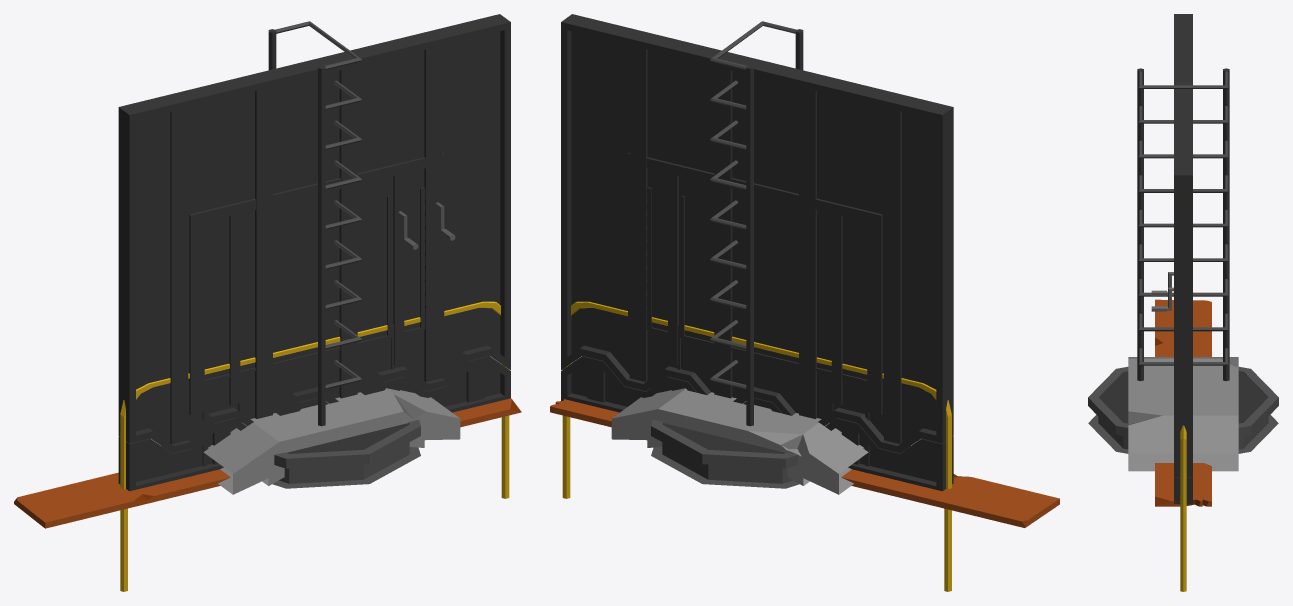
The model's file is Sewers_Props.fbx.
3 renders of one model, left to right at view 1: azimuth 30°, elevation 25°; view 2: azimuth 150°, elevation 25°; view 3: azimuth 270°, elevation 25°, orthographic. The views are drawn at different scales.
Visible parts, largest first — view 1: SM_Sewers_Props_Valve_Movable_01, SM_Sewers_Props_Valve_01, SM_Sewer_Tunnel_Bridge02_03, SM_Sewers_Props_Plank_02, SM_Sewers_Props_Ladder_2M, SM_Sewers_Props_Valve_03, SM_Sewers_Props_Valve_02, SM_Sewers_Props_Manhole_02, SM_Sewer_Tunnel_Bridge02_02, SM_Sewers_Props_Barrier, SM_Sewers_Props_Valve_Movable_03, SM_Sewers_Props_Valve_Movable_02 (+2 smaller); view 2: SM_Sewers_Props_Valve_Movable_01, SM_Sewers_Props_Valve_01, SM_Sewer_Tunnel_Bridge02_03, SM_Sewers_Props_Plank_02, SM_Sewers_Props_Ladder_2M, SM_Sewers_Props_Valve_02, SM_Sewers_Props_Valve_03, SM_Sewers_Props_Manhole_02, SM_Sewer_Tunnel_Bridge02_02, SM_Sewers_Props_Barrier, SM_Sewers_Props_Ladder_1M, SM_Sewers_Props_Valve_Movable_03 (+3 smaller); view 3: SM_Sewers_Props_Valve_Movable_01, SM_Sewer_Tunnel_Bridge02_03, SM_Sewers_Props_Ladder_2M, SM_Sewers_Props_Plank_02, SM_Sewers_Props_Manhole_02, SM_Sewer_Tunnel_Bridge02_02, SM_Sewers_Props_Manhole_Movable_02, SM_Sewers_Props_Barrier, SM_Sewers_Props_Manhole_Movable_01, SM_Sewers_Props_Plank_01, SM_Sewers_Props_Ladder_1M, SM_Sewers_Props_Valve_01.
Part boxes in pixels (x1,y1,x2,y2): SM_Sewers_Props_Valve_Movable_01: (118, 14, 510, 453); SM_Sewers_Props_Valve_01: (118, 356, 510, 491); SM_Sewer_Tunnel_Bridge02_03: (203, 388, 460, 494); SM_Sewers_Props_Plank_02: (14, 398, 521, 528); SM_Sewers_Props_Ladder_2M: (268, 21, 361, 426); SM_Sewers_Props_Valve_03: (189, 152, 444, 466); SM_Sewers_Props_Valve_02: (229, 172, 404, 405); SM_Sewers_Props_Manhole_02: (272, 392, 420, 488); SM_Sewer_Tunnel_Bridge02_02: (262, 392, 424, 485); SM_Sewers_Props_Barrier: (120, 301, 509, 591); SM_Sewers_Props_Valve_Movable_03: (202, 187, 425, 452); SM_Sewers_Props_Valve_Movable_02: (238, 195, 394, 422); SM_Sewers_Props_Valve_Movable_01: (561, 14, 953, 452); SM_Sewers_Props_Valve_01: (561, 356, 953, 491); SM_Sewer_Tunnel_Bridge02_03: (611, 388, 868, 494); SM_Sewers_Props_Plank_02: (550, 399, 1059, 527); SM_Sewers_Props_Ladder_2M: (710, 21, 803, 425); SM_Sewers_Props_Valve_02: (668, 163, 842, 405); SM_Sewers_Props_Valve_03: (628, 153, 882, 466); SM_Sewers_Props_Manhole_02: (651, 392, 799, 488); SM_Sewer_Tunnel_Bridge02_02: (647, 392, 809, 485); SM_Sewers_Props_Barrier: (562, 301, 951, 591); SM_Sewers_Props_Ladder_1M: (710, 241, 753, 426); SM_Sewers_Props_Valve_Movable_03: (646, 187, 869, 452); SM_Sewers_Props_Valve_Movable_01: (1174, 14, 1192, 477); SM_Sewer_Tunnel_Bridge02_03: (1128, 357, 1238, 471); SM_Sewers_Props_Ladder_2M: (1137, 68, 1229, 381); SM_Sewers_Props_Plank_02: (1155, 299, 1211, 506); SM_Sewers_Props_Manhole_02: (1088, 366, 1278, 453); SM_Sewer_Tunnel_Bridge02_02: (1128, 367, 1238, 388); SM_Sewers_Props_Manhole_Movable_02: (1099, 372, 1263, 423); SM_Sewers_Props_Barrier: (1180, 425, 1186, 591); SM_Sewers_Props_Manhole_Movable_01: (1101, 372, 1267, 422); SM_Sewers_Props_Plank_01: (1164, 340, 1202, 506); SM_Sewers_Props_Ladder_1M: (1138, 244, 1229, 380); SM_Sewers_Props_Valve_01: (1174, 477, 1192, 503).
Size of the model in its own units: 252 by 250 by 100.
